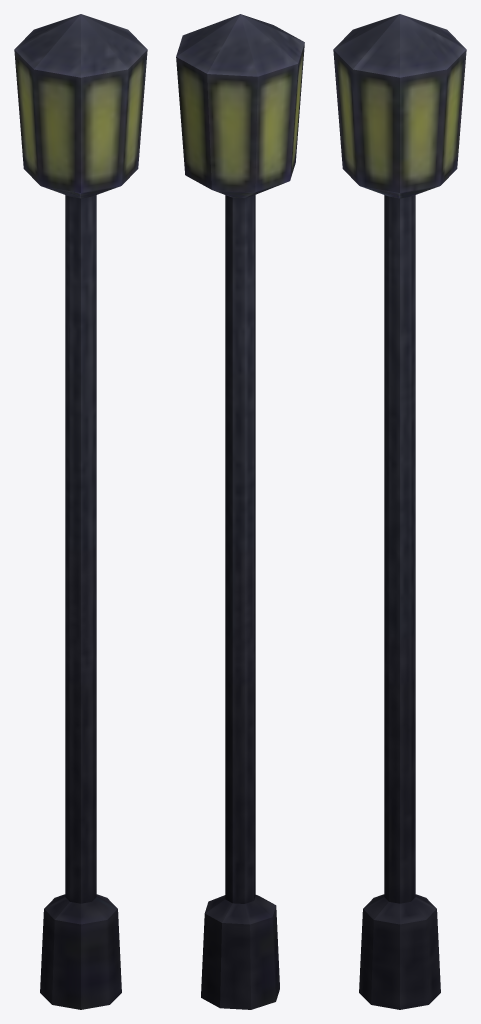
Rendered from low_poly_street_lamp.glb.
3 renders of one model, left to right at view 1: azimuth 90°, elevation 25°; view 2: azimuth 150°, elevation 25°; view 3: azimuth 270°, elevation 25°, orthographic.
Parts seen in each view (by area): view 1: Light_Pole; view 2: Light_Pole; view 3: Light_Pole.
Boxes of the visible parts, <box> form: Light_Pole: <box>14,14,147,1009</box>; Light_Pole: <box>176,14,304,1009</box>; Light_Pole: <box>333,14,466,1009</box>.
Bounding box in the file's own units: 23.92 × 194 × 23.92.
1 material, 1 textured.
